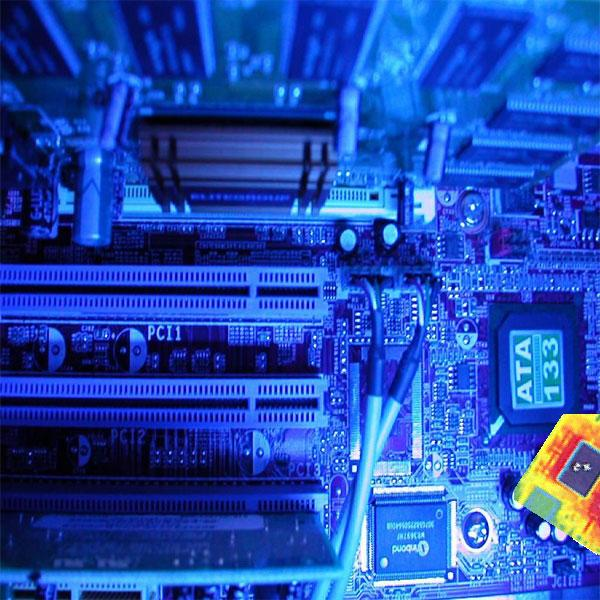componente_T: (512, 411, 600, 559)
